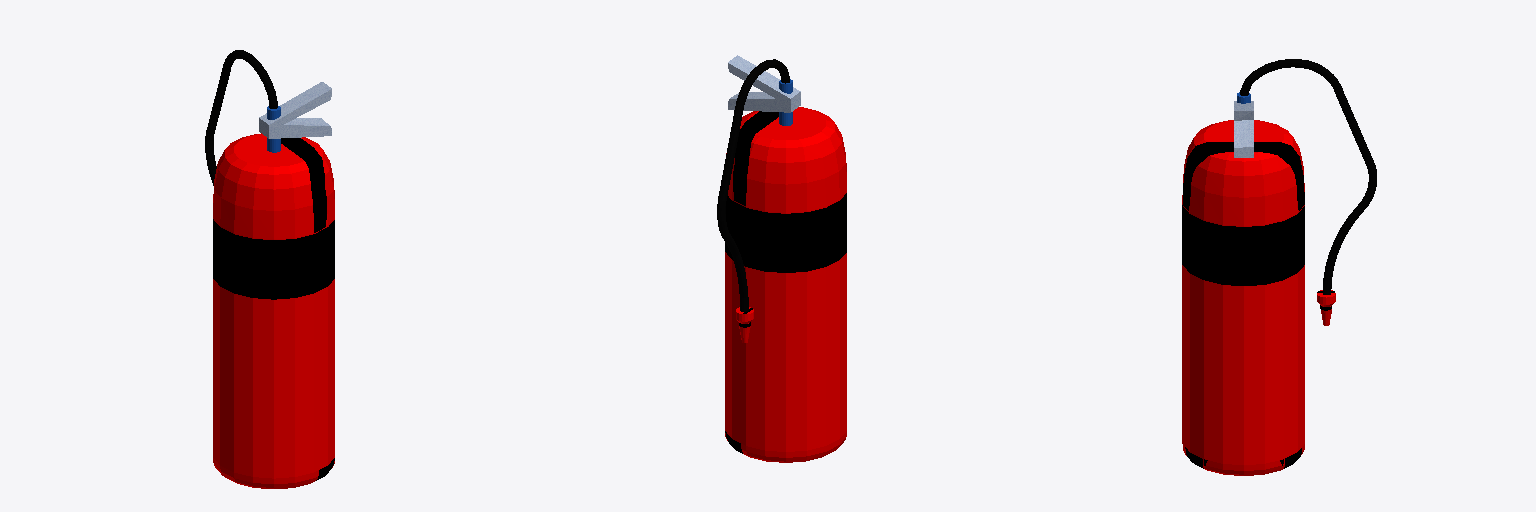
3 views of the same model, side by side, from view 1: azimuth 30°, elevation 25°; view 2: azimuth 150°, elevation 25°; view 3: azimuth 270°, elevation 25° (orthographic).
Parts seen in each view (by area): view 1: Cylinder001, Box001, Line001; view 2: Cylinder001, Line001, Box001; view 3: Cylinder001, Line001, Box001.
Boxes of the visible parts, x1,y1,x2,y2 form: Cylinder001: [213, 133, 334, 488]; Box001: [259, 82, 331, 138]; Line001: [205, 50, 277, 185]; Cylinder001: [725, 107, 846, 462]; Line001: [717, 59, 789, 312]; Box001: [728, 55, 800, 112]; Cylinder001: [1182, 120, 1304, 475]; Line001: [1240, 59, 1376, 294]; Box001: [1234, 101, 1253, 157].
Bounding box in the file's own units: 0.3565 × 1.25 × 0.5584.
Materials: 4 (3 with a texture image).